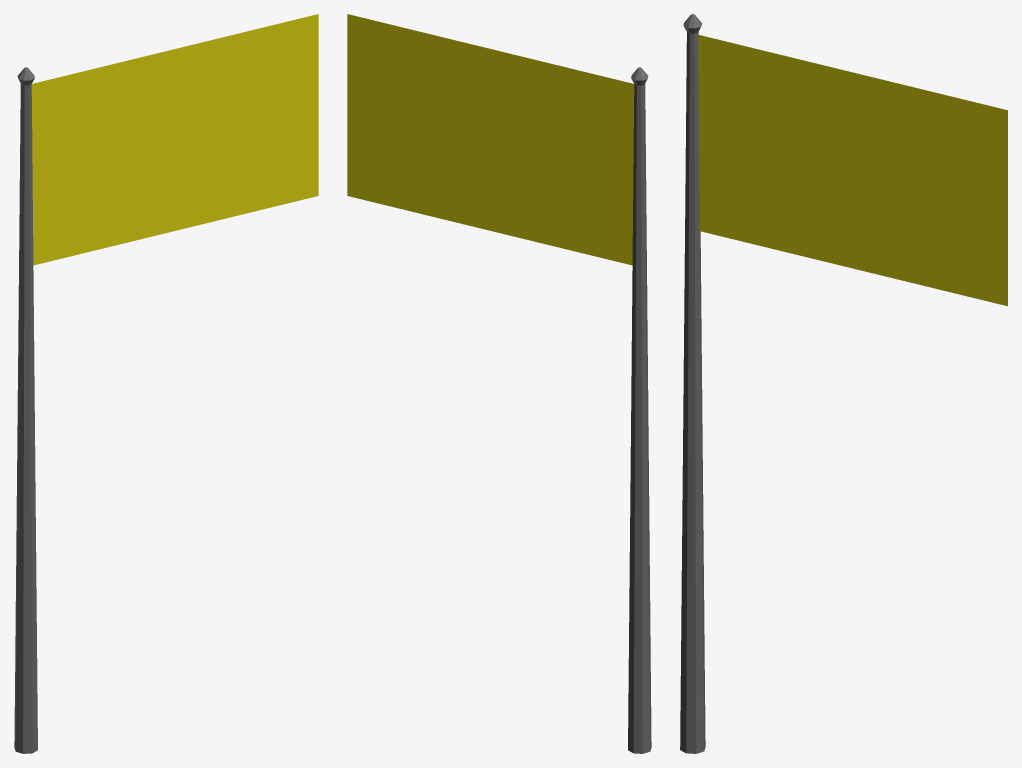
File: BandeiraAmarela.fbx
3 renders of one model, left to right at view 1: azimuth 30°, elevation 25°; view 2: azimuth 150°, elevation 25°; view 3: azimuth 330°, elevation 25°, orthographic. The views are drawn at different scales.
Parts seen in each view (by area): view 1: Bandiera, mastro; view 2: Bandiera, mastro; view 3: Bandiera, mastro.
Part boxes in pixels (<box>): Bandiera: <box>31,14,318,265</box>; mastro: <box>14,67,37,753</box>; Bandiera: <box>347,14,634,265</box>; mastro: <box>628,67,651,753</box>; Bandiera: <box>698,35,1007,306</box>; mastro: <box>680,14,705,753</box>.
Bounding box in the file's own units: 93.12 × 200 × 6.5.
